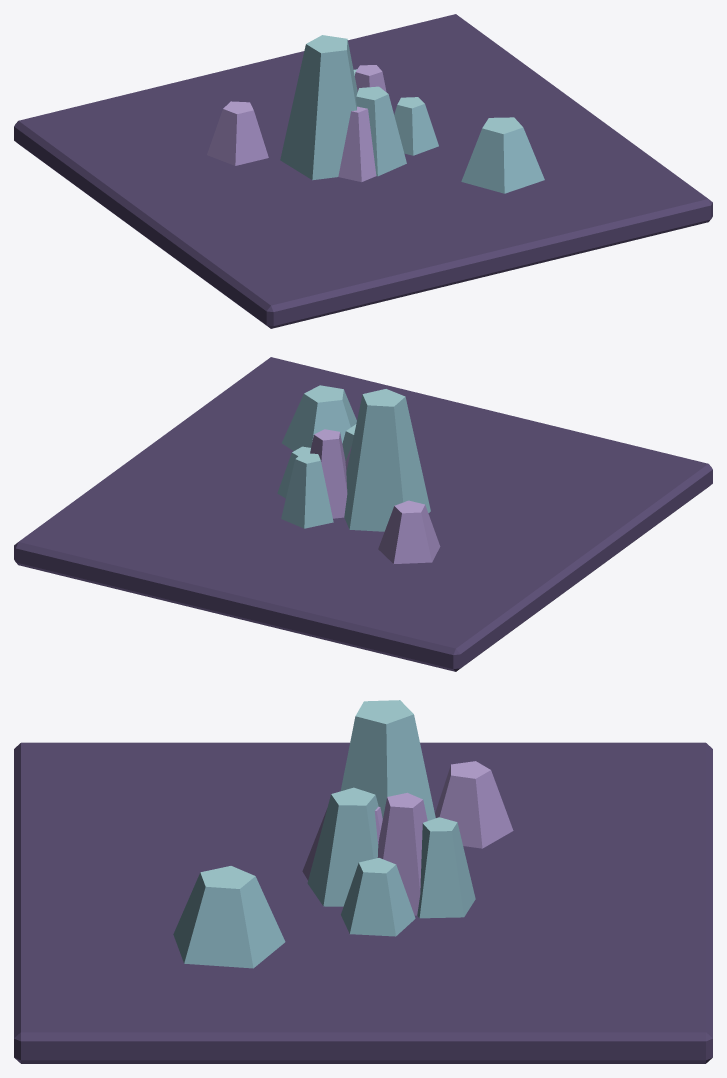
Rendered from crystal_tile.glb.
3 renders of one model, top to bottom at view 1: azimuth 30°, elevation 25°; view 2: azimuth 150°, elevation 25°; view 3: azimuth 270°, elevation 25°, orthographic. The views are drawn at different scales.
Parts seen in each view (by area): view 1: CrystalTile; view 2: CrystalTile; view 3: CrystalTile.
Boxes of the visible parts, box(x1,y1,x2,y2) form: CrystalTile: box(14, 14, 712, 328); CrystalTile: box(14, 357, 712, 671); CrystalTile: box(14, 700, 712, 1063).
Bounding box in the file's own units: 1 × 0.2997 × 1.
